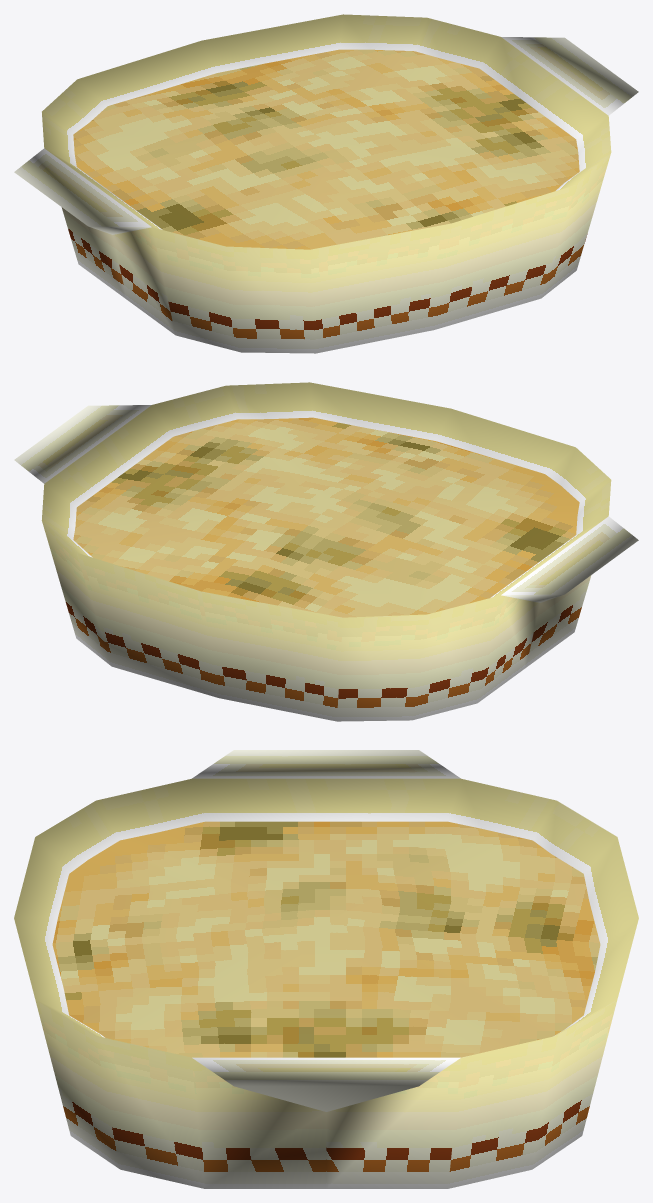
The picture shows the model from 3 angles, top to bottom: view 1: azimuth 30°, elevation 25°; view 2: azimuth 150°, elevation 25°; view 3: azimuth 270°, elevation 25°; orthographic projection. The views are drawn at different scales.
Visible parts, largest first — view 1: guratan; view 2: guratan; view 3: guratan.
Part boxes in pixels (x1,y1,x2,y2): guratan: (14,14,638,353); guratan: (14,382,638,721); guratan: (14,750,638,1188).
Size of the model in its own units: 0.7324 by 0.1514 by 0.5752.
2 materials, 2 textured.
